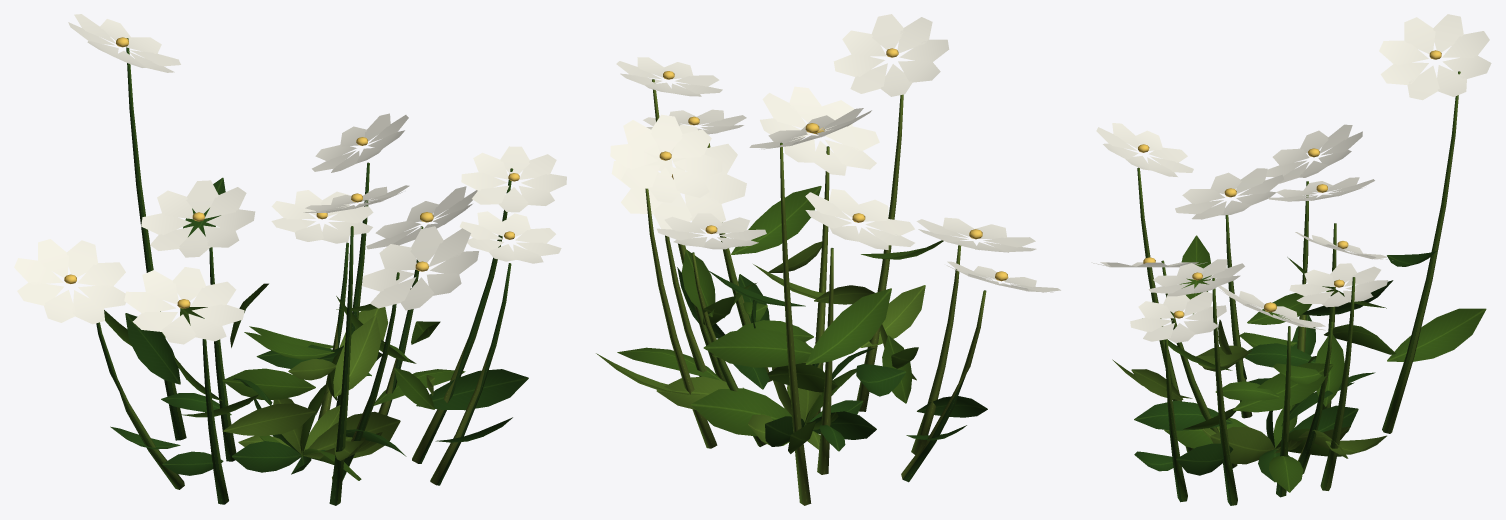
Rendered from White_flowers_1.glb.
The picture shows the model from 3 angles, left to right: view 1: azimuth 30°, elevation 25°; view 2: azimuth 150°, elevation 25°; view 3: azimuth 270°, elevation 25°; orthographic projection. The views are drawn at different scales.
Parts seen in each view (by area): view 1: White_flowers_1_Flowers.003, White_flowers_1_Leaves.004, White_flowers_1_Stems.004, White_flowers_1_Centers.003; view 2: White_flowers_1_Flowers.003, White_flowers_1_Leaves.004, White_flowers_1_Stems.004, White_flowers_1_Centers.003; view 3: White_flowers_1_Flowers.003, White_flowers_1_Leaves.004, White_flowers_1_Stems.004, White_flowers_1_Centers.003.
Boxes of the visible parts, bbox=[...] form: White_flowers_1_Flowers.003: bbox=[14, 14, 566, 344]; White_flowers_1_Leaves.004: bbox=[104, 177, 528, 480]; White_flowers_1_Stems.004: bbox=[96, 38, 513, 505]; White_flowers_1_Centers.003: bbox=[64, 37, 519, 308]; White_flowers_1_Flowers.003: bbox=[610, 14, 1060, 292]; White_flowers_1_Leaves.004: bbox=[596, 186, 987, 453]; White_flowers_1_Stems.004: bbox=[645, 79, 986, 505]; White_flowers_1_Centers.003: bbox=[659, 48, 1008, 281]; White_flowers_1_Flowers.003: bbox=[1091, 14, 1491, 342]; White_flowers_1_Leaves.004: bbox=[1112, 235, 1486, 492]; White_flowers_1_Stems.004: bbox=[1137, 71, 1460, 505]; White_flowers_1_Centers.003: bbox=[1138, 50, 1441, 318].
Bounding box in the file's own units: 1.09 × 0.8939 × 0.8451.
3 materials, 1 textured.
